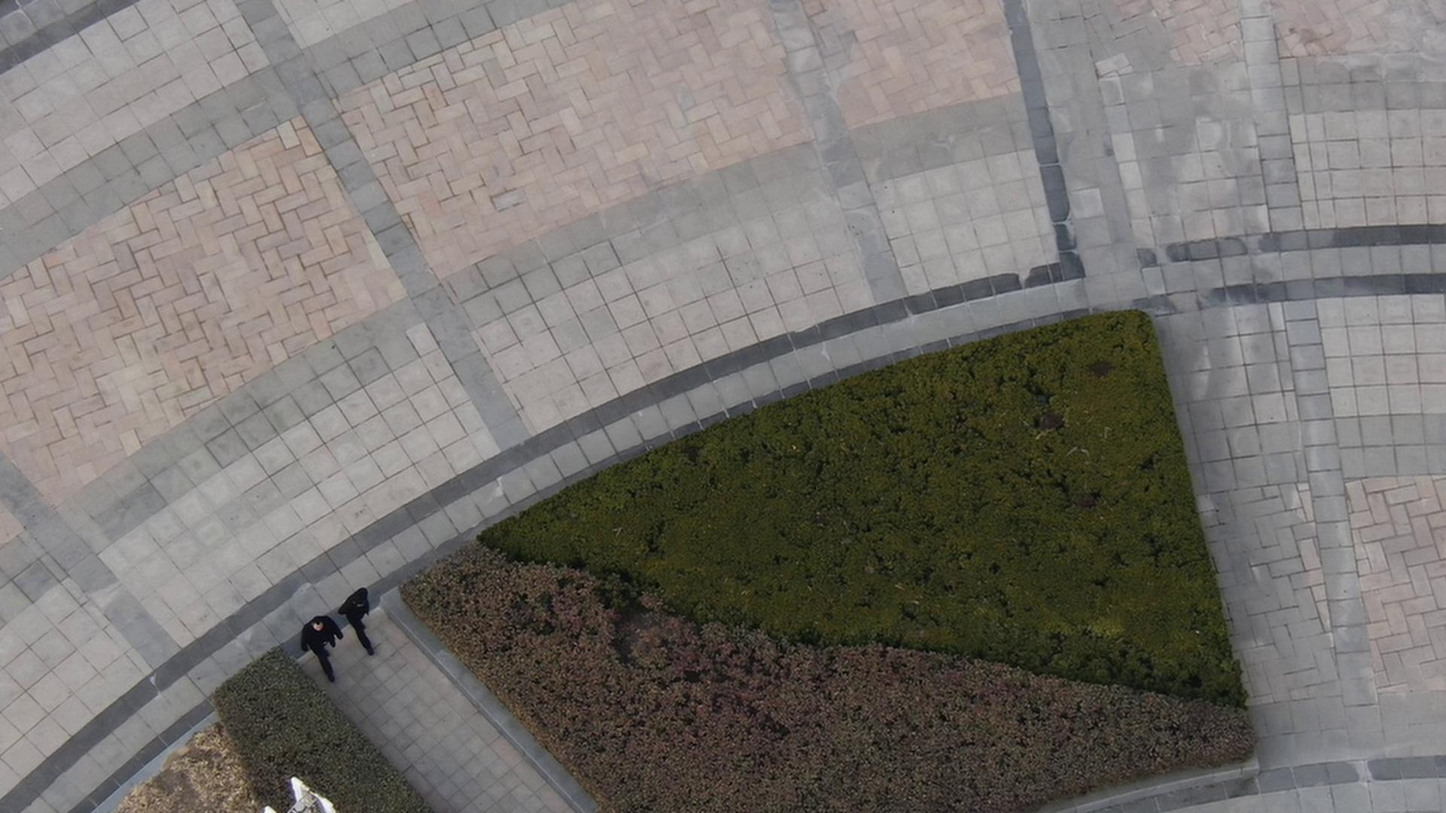human: (320, 607, 366, 668), (358, 579, 395, 643)
